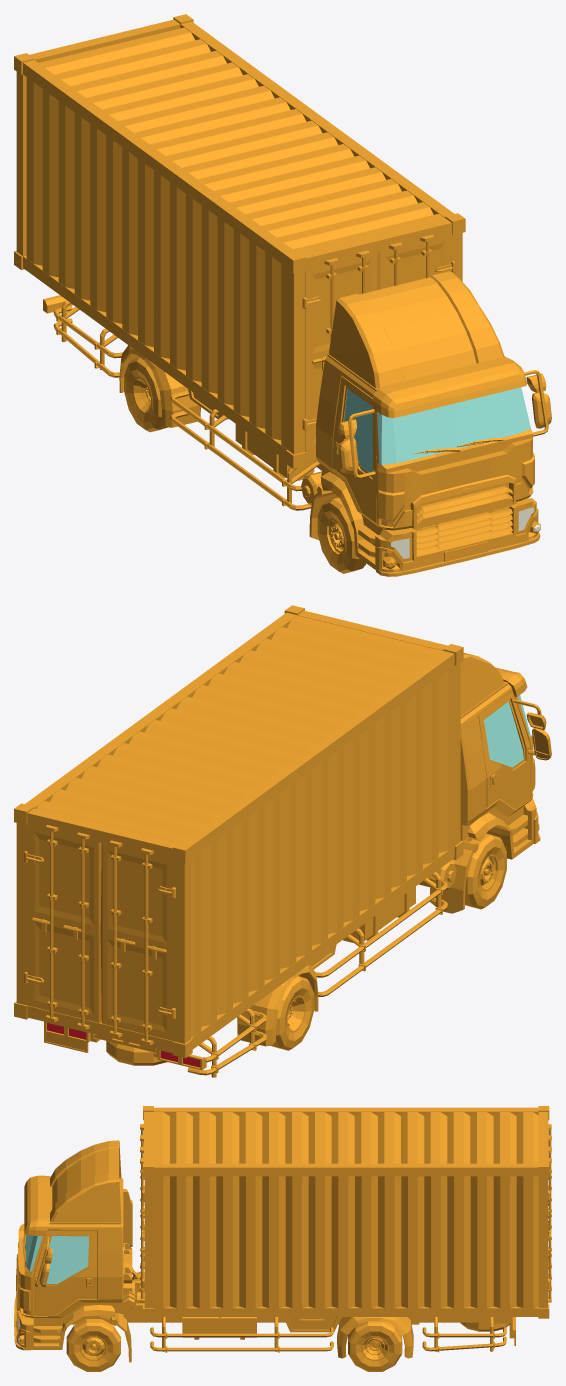
File: SM_Car_Truck_Modern_Container.fbx
The picture shows the model from 3 angles, top to bottom: view 1: azimuth 30°, elevation 25°; view 2: azimuth 150°, elevation 25°; view 3: azimuth 270°, elevation 25°; orthographic projection. The views are drawn at different scales.
Visible parts, largest first — view 1: SM_Car_Truck_Modern_Container_Base, SM_Car_Truck_Modern_Container_Door_RF, SM_Car_Truck_Modern_Container_Door_R, SM_Car_Truck_Modern_Container_Door_LF, SM_Car_Truck_Modern_Container_Wheel_RF, SM_Car_Truck_Modern_Container_Wheel_RB, SM_Car_Truck_Modern_Container_Door_L; view 2: SM_Car_Truck_Modern_Container_Base, SM_Car_Truck_Modern_Container_Door_LB, SM_Car_Truck_Modern_Container_Door_RB, SM_Car_Truck_Modern_Container_Door_R, SM_Car_Truck_Modern_Container_Wheel_RF, SM_Car_Truck_Modern_Container_Wheel_RB; view 3: SM_Car_Truck_Modern_Container_Base, SM_Car_Truck_Modern_Container_Door_L, SM_Car_Truck_Modern_Container_Wheel_LF, SM_Car_Truck_Modern_Container_Wheel_LB, SM_Car_Truck_Modern_Container_Door_LB, SM_Car_Truck_Modern_Container_Door_LF.
Boxes of the visible parts, x1,y1,x2,y2 form: SM_Car_Truck_Modern_Container_Base: (14, 14, 540, 576); SM_Car_Truck_Modern_Container_Door_RF: (302, 253, 377, 451); SM_Car_Truck_Modern_Container_Door_R: (333, 376, 377, 523); SM_Car_Truck_Modern_Container_Door_LF: (377, 234, 455, 289); SM_Car_Truck_Modern_Container_Wheel_RF: (317, 497, 366, 573); SM_Car_Truck_Modern_Container_Wheel_RB: (124, 357, 169, 432); SM_Car_Truck_Modern_Container_Door_L: (524, 370, 551, 436); SM_Car_Truck_Modern_Container_Base: (14, 605, 540, 1077); SM_Car_Truck_Modern_Container_Door_LB: (24, 825, 101, 1025); SM_Car_Truck_Modern_Container_Door_RB: (100, 843, 175, 1040); SM_Car_Truck_Modern_Container_Door_R: (478, 691, 551, 809); SM_Car_Truck_Modern_Container_Wheel_RF: (465, 833, 506, 909); SM_Car_Truck_Modern_Container_Wheel_RB: (269, 976, 314, 1050); SM_Car_Truck_Modern_Container_Base: (14, 1106, 551, 1362); SM_Car_Truck_Modern_Container_Door_L: (33, 1230, 96, 1315); SM_Car_Truck_Modern_Container_Wheel_LF: (66, 1319, 120, 1371); SM_Car_Truck_Modern_Container_Wheel_LB: (348, 1321, 402, 1371); SM_Car_Truck_Modern_Container_Door_LB: (548, 1152, 551, 1298); SM_Car_Truck_Modern_Container_Door_LF: (140, 1152, 144, 1298).
Bounding box in the file's own units: 3.28 × 4.3 × 10.02.
